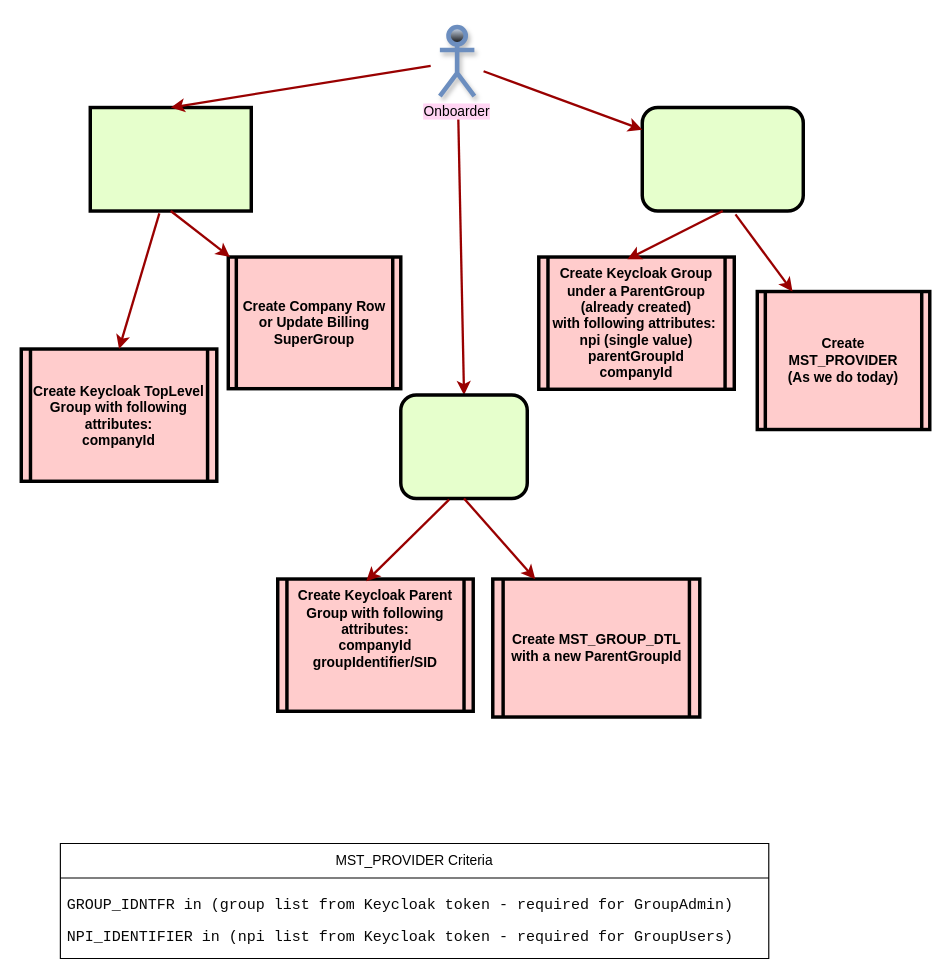
This 951x979 diagram has some shape labels left out. The centre of each missing label's shape, as x and y in pixels:
"Create Company CompanyId" belongs at (x=170, y=158).
"Create Group GroupId ParentGroupId" belongs at (x=463, y=446).
"Create Provider NPI ParentGroupId CompanyId" belongs at (x=722, y=158).
